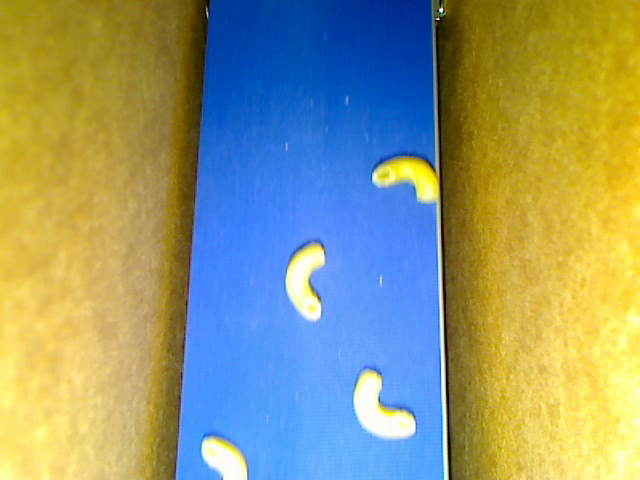elbow: (352, 367, 416, 441), (285, 240, 326, 323), (372, 155, 439, 203), (201, 435, 247, 479)
